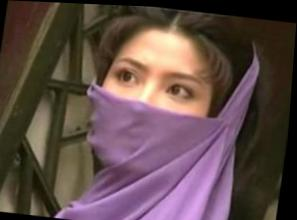WRONG: (87, 46, 225, 181)
